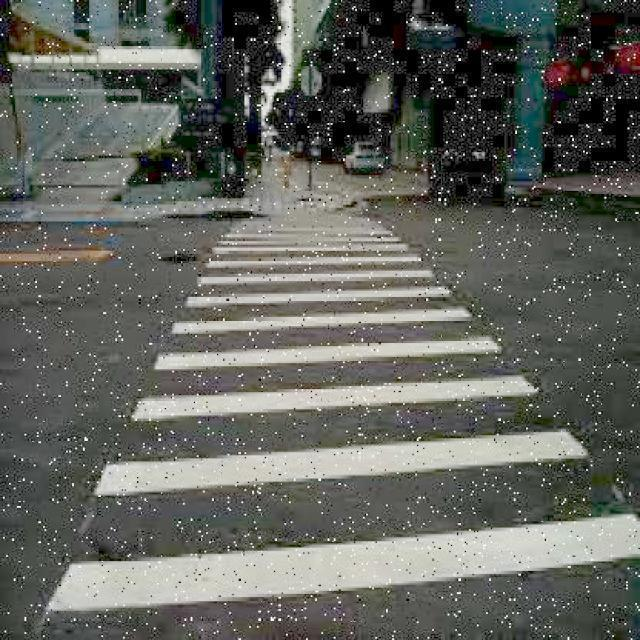crosswalk: (46, 214, 640, 614)
